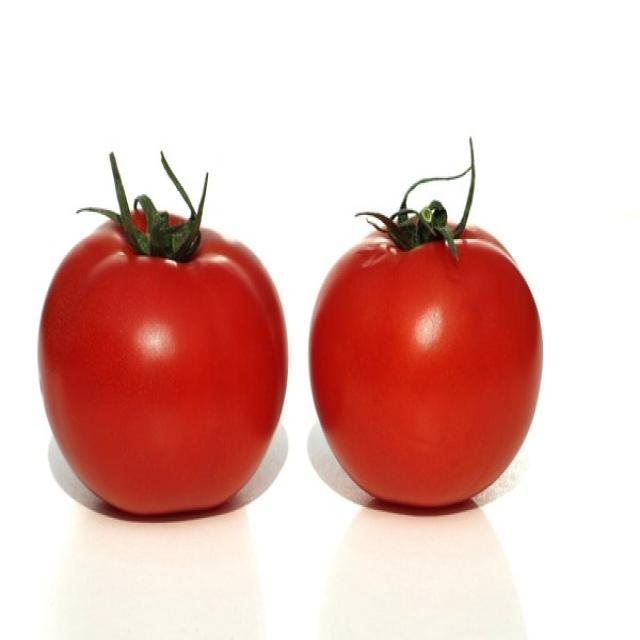kirmizi: (20, 148, 554, 528)
